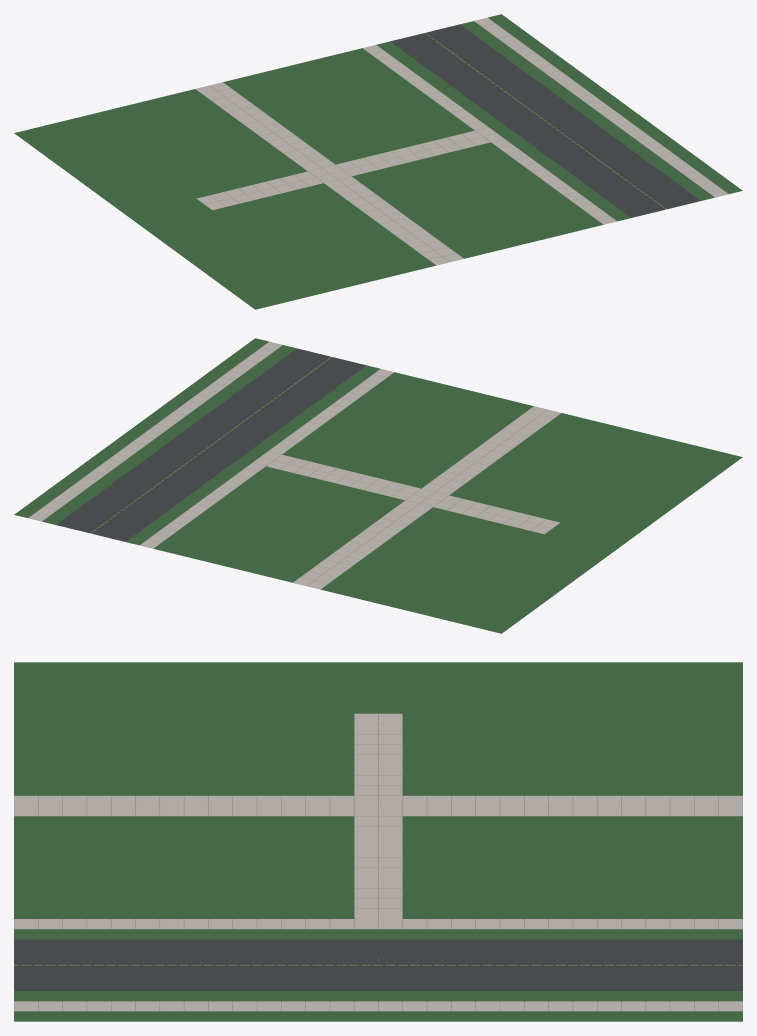
File: graveyard.dae
3 renders of one model, top to bottom at view 1: azimuth 30°, elevation 25°; view 2: azimuth 150°, elevation 25°; view 3: azimuth 270°, elevation 25°, orthographic. The views are drawn at different scales.
Parts seen in each view (by area): view 1: graveyard-col; view 2: graveyard-col; view 3: graveyard-col.
Part boxes in pixels (x1=…): graveyard-col: x1=14, y1=14, x2=742, y2=309; graveyard-col: x1=14, y1=338, x2=742, y2=633; graveyard-col: x1=14, y1=662, x2=742, y2=1021.
Bounding box in the file's own units: 67.81 × 58.13 × 0.0555.
Materials: 1 (1 with a texture image).
